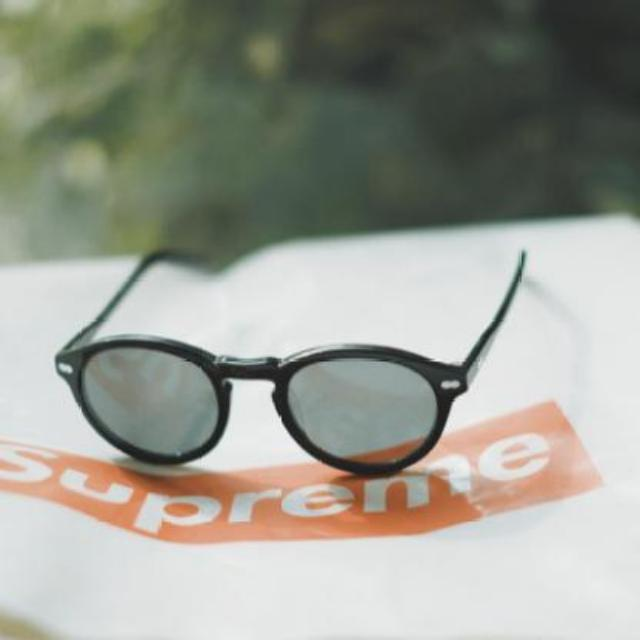sunglasses: (55, 245, 527, 472)
